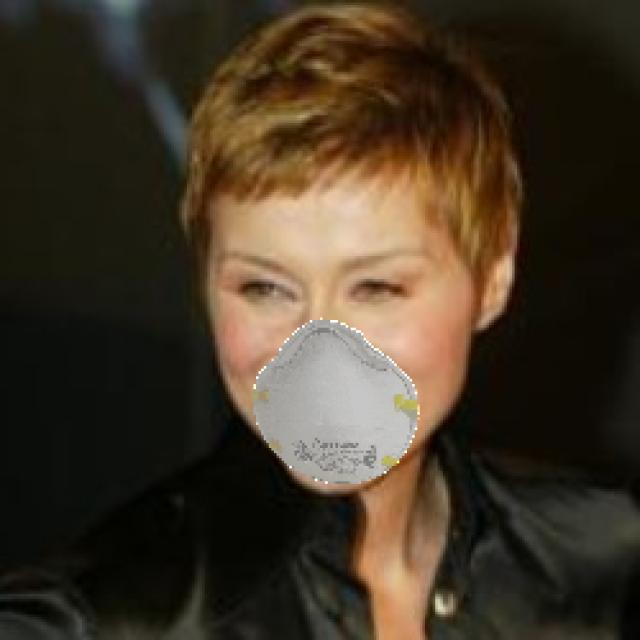mask: (228, 317, 444, 497)
